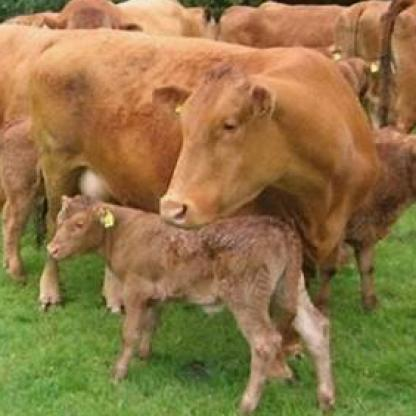cow: (32, 29, 378, 315), (46, 194, 336, 410)
